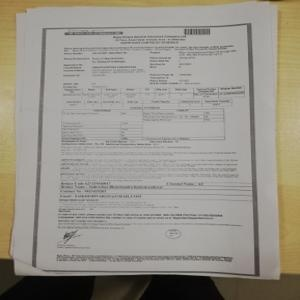table: (60, 108, 227, 141), (61, 84, 245, 108)
text: (62, 42, 238, 86), (62, 141, 243, 180), (112, 33, 187, 47)
